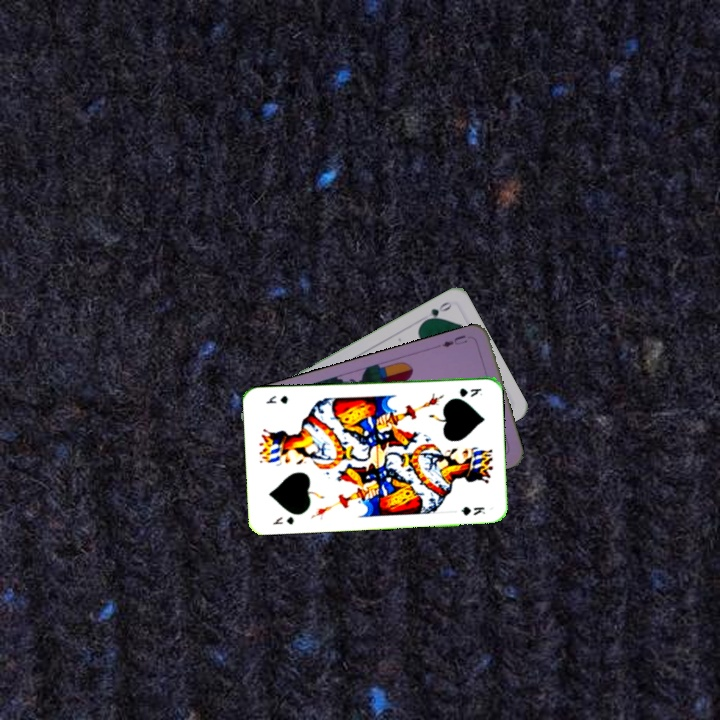EU: (438, 331, 470, 350)
GK: (455, 384, 484, 400), (269, 512, 296, 527)
GO: (417, 297, 454, 326)
